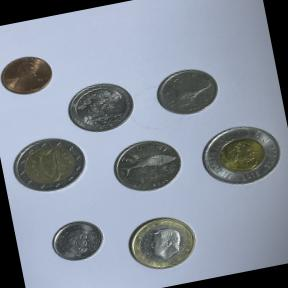coin: (189, 107, 288, 198), (113, 204, 210, 282), (102, 128, 197, 207), (0, 128, 93, 204), (58, 71, 144, 140), (42, 209, 112, 270), (0, 42, 65, 107)
